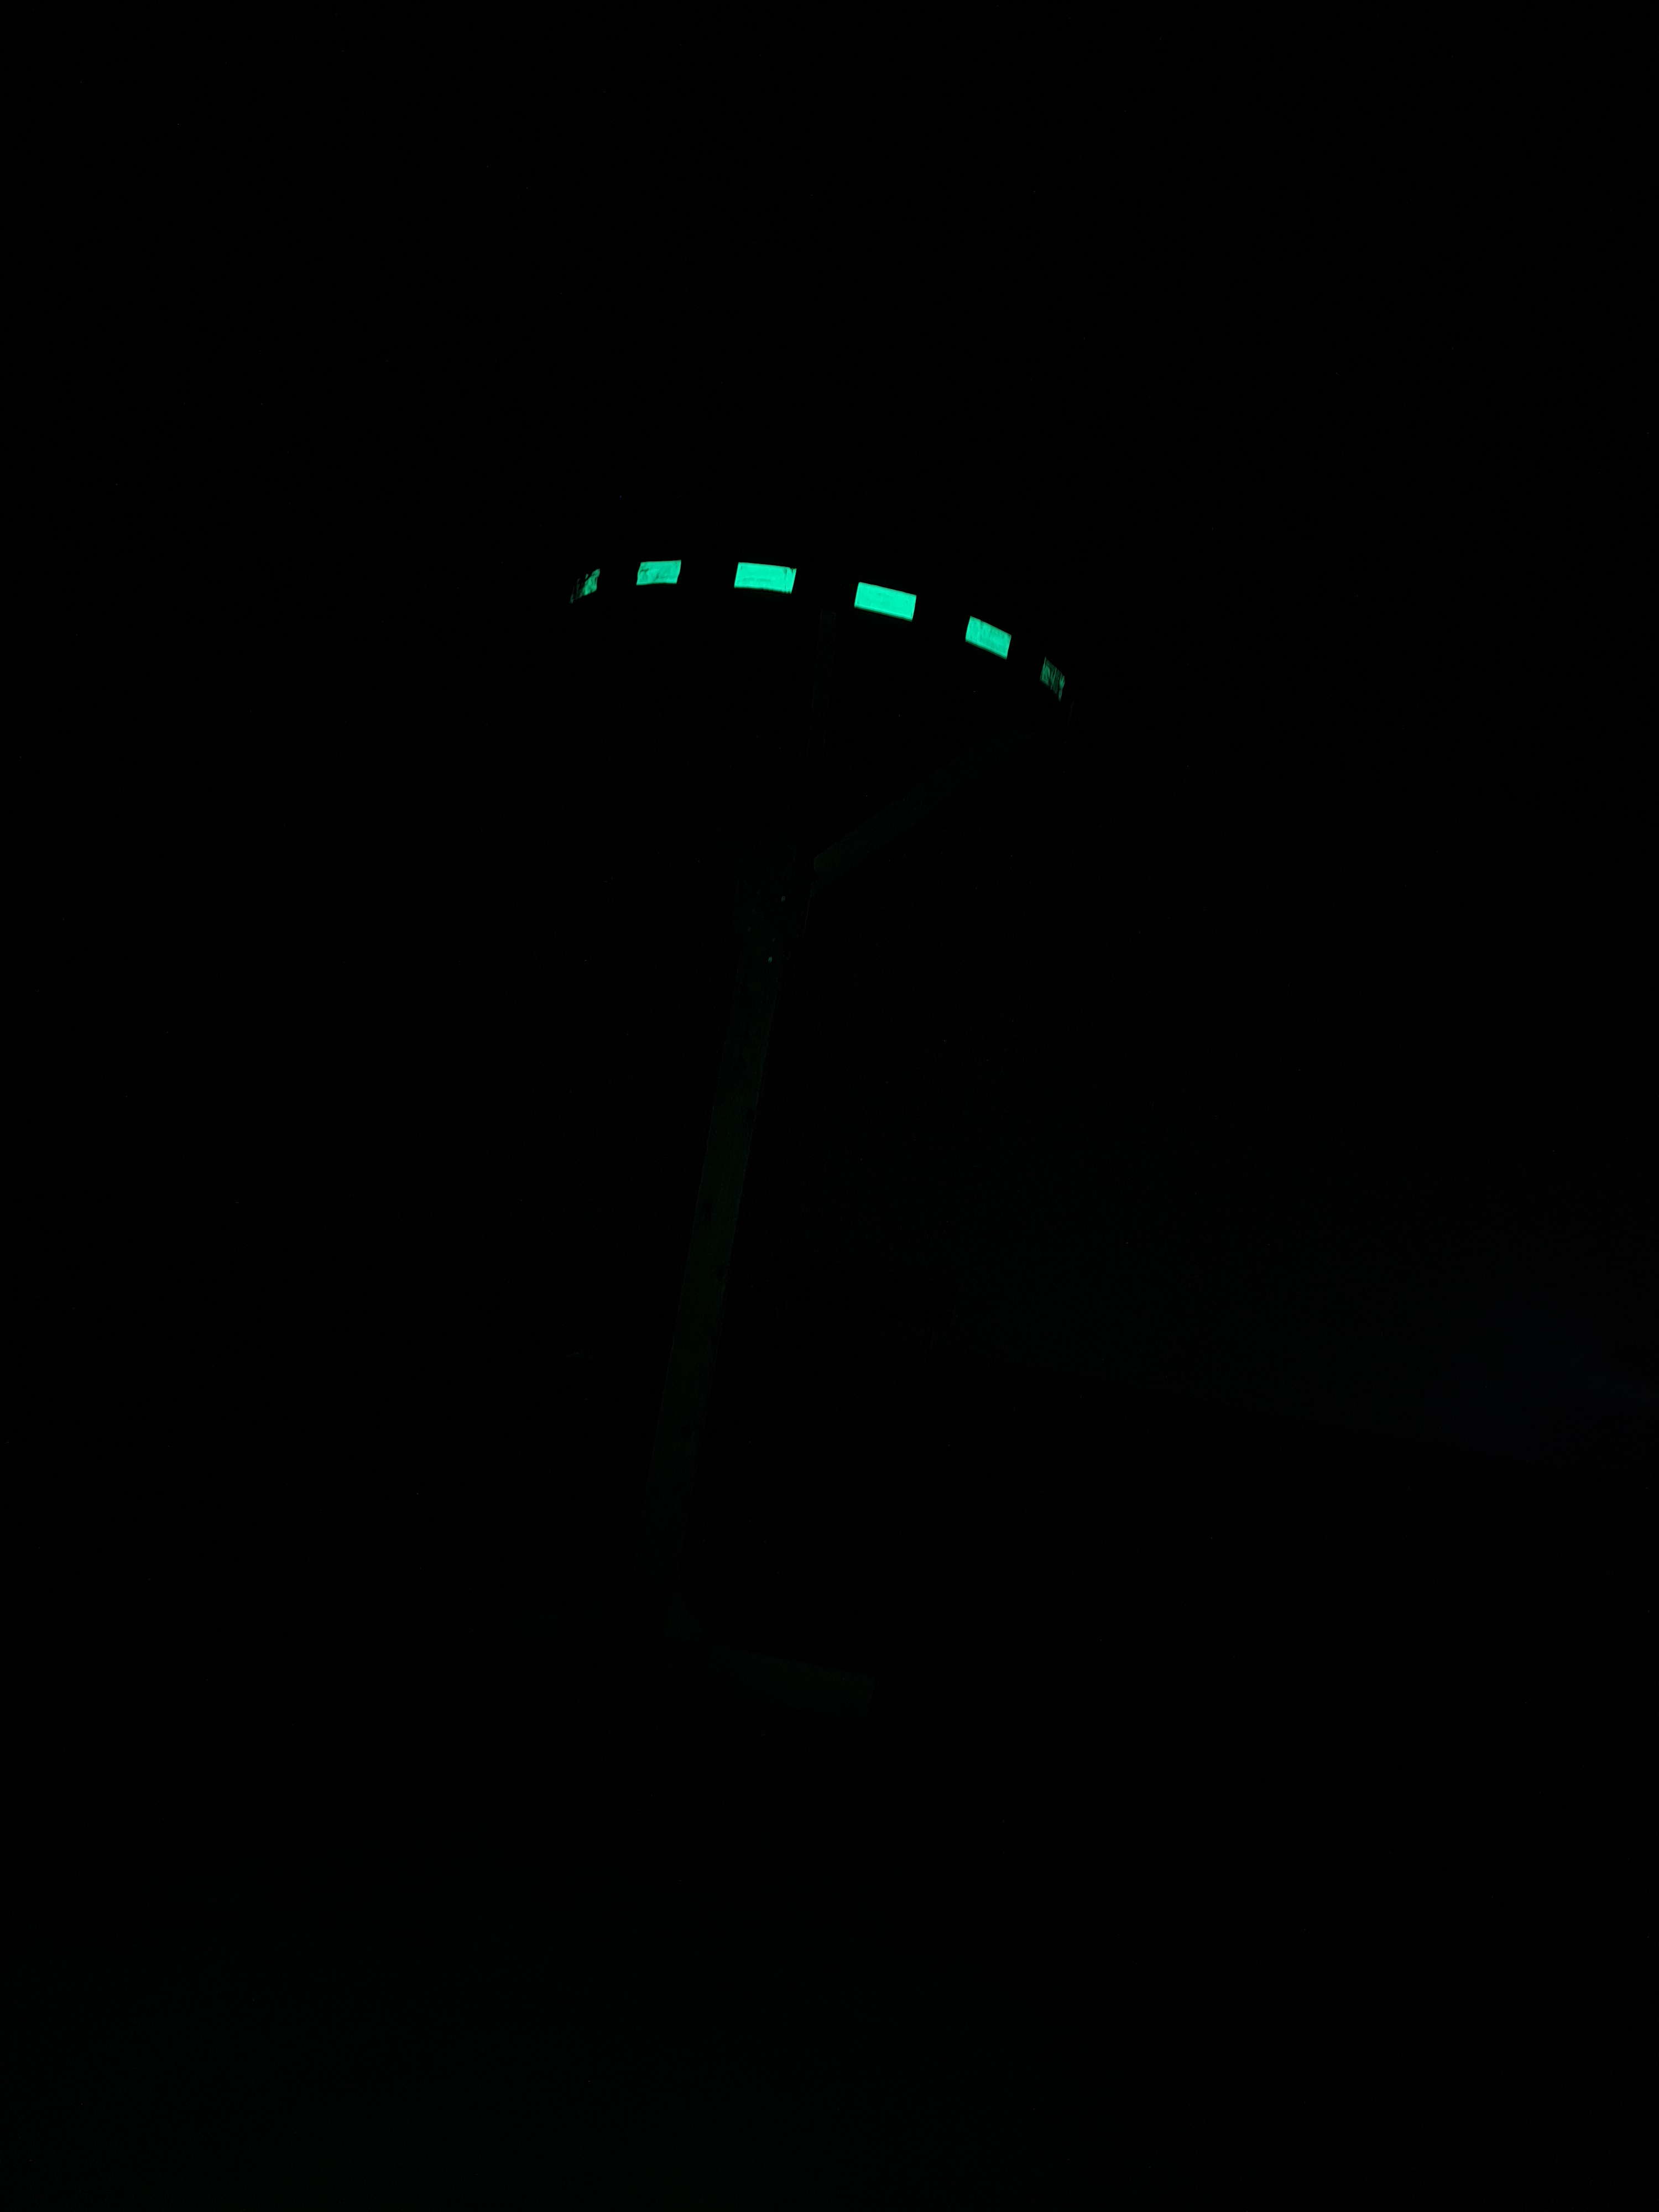hoop: (565, 543, 1075, 718)
